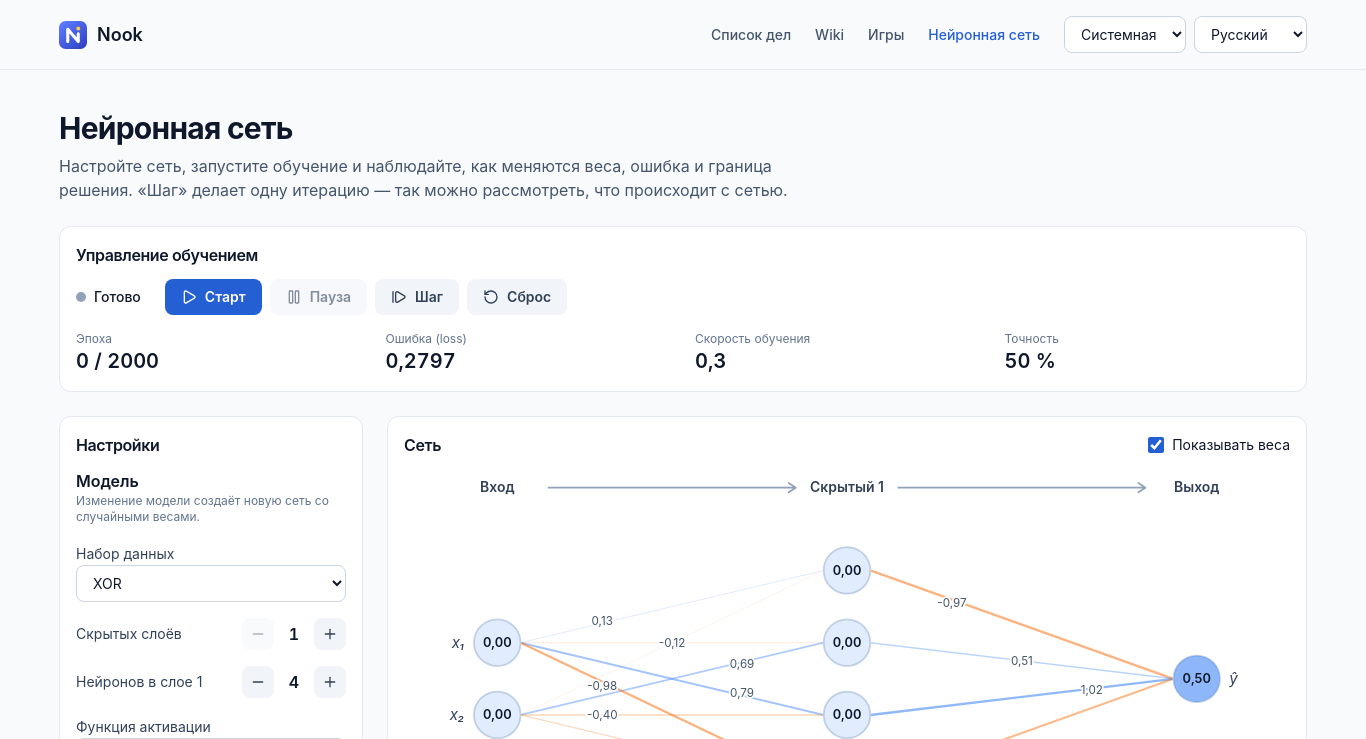
Test case: /neural-network › training › Step runs one iteration: the epoch, the loss and the chart move
Click the button "Шаг" at (417, 297), box top-left (375, 279), bottom-right (459, 315)
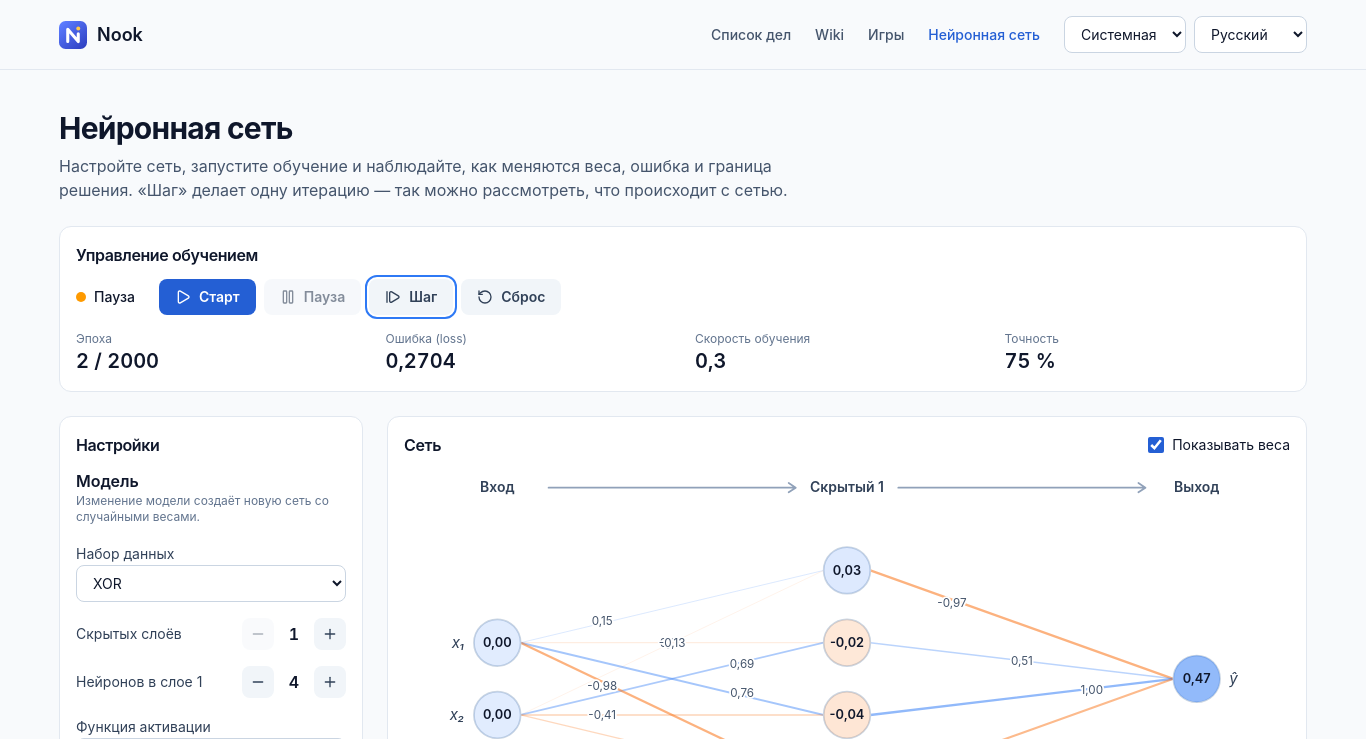
Result: the message reads "Пауза" at top-left (94, 288), bottom-right (135, 305)
